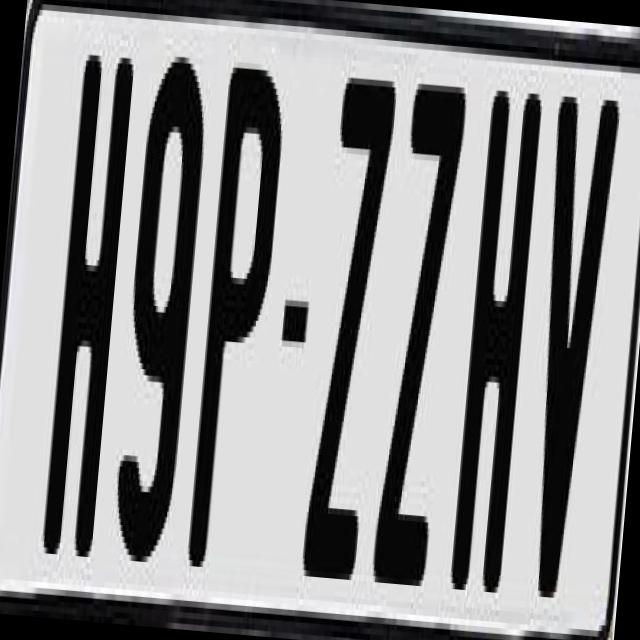9: (108, 43, 217, 582)
H: (36, 53, 136, 580), (446, 78, 542, 592)
P: (185, 55, 292, 588)
V: (514, 90, 623, 623)
Z: (366, 76, 470, 610), (298, 77, 402, 586)
